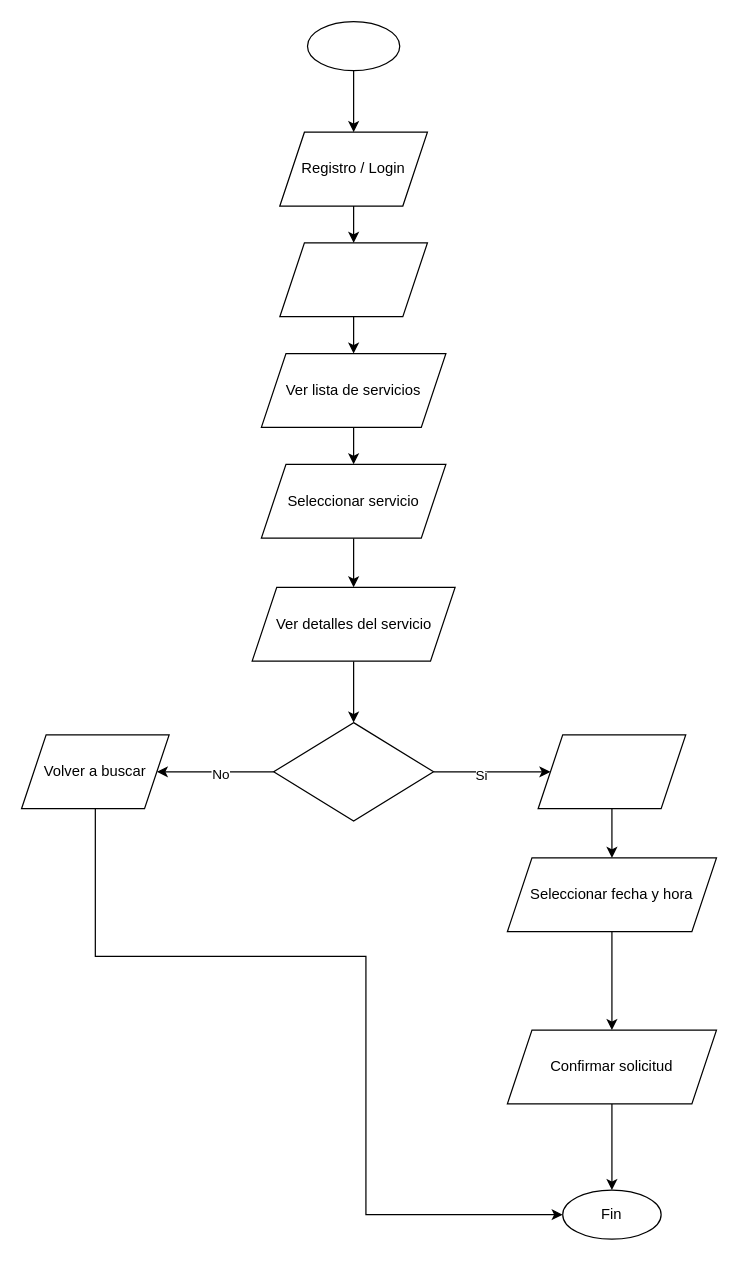
The diagram is 738 pixels wide and 1261 high, and some of its shapes have lost their labels. The centre of each missing label's shape, as x and y in pixels:
Buscar servicio: [353,279]
Inicio: [353,45]
Solicitar servicio: [611,771]
¿Le interesa el servicio?: [353,771]
